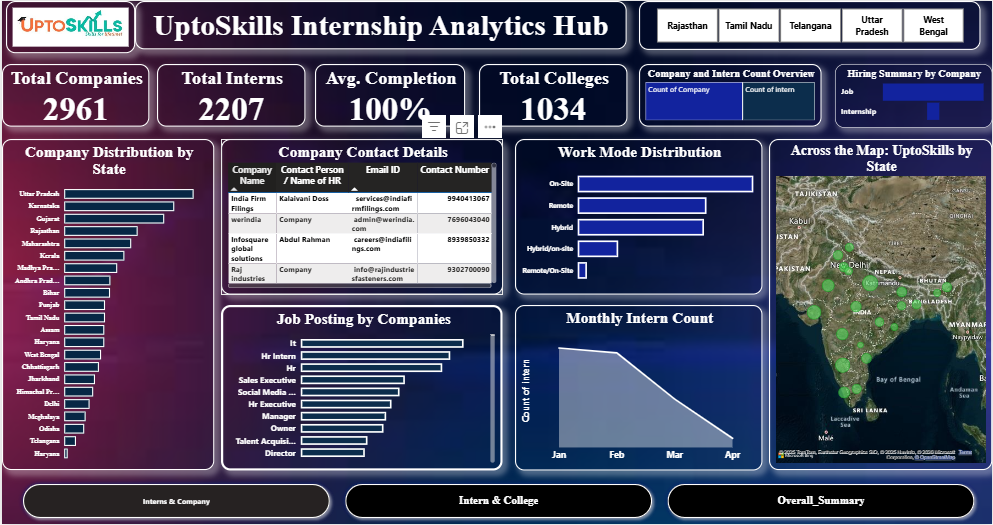

The dashboard page shown, as its layout file describes it:
{"tool":"powerbi","page":{"name":"Interns & Company","canvas":[1800,950],"ordinal":0},"visuals":[{"type":"lineChart","title":"Monthly Intern Count","fields":{"Y":["Final Intern Data.Count of intern"],"Category":["DateTable.Month"]},"box":[932.1,552.7,449.7,300.9],"z":0},{"type":"clusteredBarChart","title":"Job Posting by Companies","fields":{"Category":["Corporate Data.Designation"],"Y":["CountNonNull(Corporate Data.Company Name)"]},"box":[399,552.7,511.8,300.9],"z":1000},{"type":"barChart","title":"Company Distribution by State","fields":{"Category":["Corporate Data.State"],"Y":["Corporate Data.Count of Company"]},"box":[0,251.8,385.9,601.7],"z":2000},{"type":"slicer","fields":{"Values":["Corporate Data.State"]},"box":[1157.8,0,621.4,88.8],"z":3000},{"type":"treemap","title":"Company and Intern Count Overview","fields":{"Values":["Final Intern Data.Count of intern","Corporate Data.Count of Company"]},"box":[1157.7,114.5,331.9,114.5],"z":4000},{"type":"card","title":"Total Interns","fields":{"Values":["Final Intern Data.Count of intern"]},"box":[281.3,114.5,269.8,114.5],"z":5000},{"type":"card","title":"Total Colleges","fields":{"Values":["College_data.Count of Colleges"]},"box":[866.6,114.5,269.8,114.5],"z":6000},{"type":"card","title":"Total Companies","fields":{"Values":["Corporate Data.Count of Company"]},"box":[0,114.5,268.2,114.5],"z":7000},{"type":"card","title":"Avg. Completion","fields":{"Values":["College_data.Average Internship Duration"]},"box":[569,114.5,273.1,114.5],"z":8000},{"type":"textbox","box":[242,0,894.4,88.3],"z":9000},{"type":"pageNavigator","box":[29.4,869.9,1749.6,80.1],"z":10000},{"type":"tableEx","title":"Company Contact Details","fields":{"Values":["Corporate Data.Company Name","Corporate Data.Contact Person / Name of HR","Corporate Data.Email ID","Corporate Data.Contact Number"]},"box":[397.3,251.8,513.4,282.9],"z":11000},{"type":"map","title":"Across the Map: UptoSkills by State","fields":{"Category":["Corporate Data.State"],"Size":["CountNonNull(Corporate Data.Company Name)"]},"box":[1394.8,251.8,405.5,601.7],"z":12000},{"type":"funnel","title":"Hiring Summary by Company","fields":{"Category":["Corporate Data.Internship(Paid) / Job"],"Y":["Corporate Data.Count of Company"]},"box":[1514.2,114.5,286.2,116.1],"z":13000},{"type":"clusteredBarChart","title":"Work Mode Distribution","fields":{"Category":["Corporate Data.Work Mode"],"Y":["CountNonNull(Final Intern Data.Name)"]},"box":[932.1,251.8,449.7,282.9],"z":14000},{"type":"image","box":[6.5,0,235.5,94.8],"z":15000}]}

Visuals, with their boxes in screenshot pixels (x1, y1, x2, y2), scaled from the page's 1800x950 canvas onto the 993x525 screenshot:
"Monthly Intern Count" lineChart: [514, 305, 762, 472]
"Job Posting by Companies" clusteredBarChart: [220, 305, 502, 472]
"Company Distribution by State" barChart: [0, 139, 213, 472]
slicer - Corporate Data.State: [639, 0, 982, 49]
"Company and Intern Count Overview" treemap: [639, 63, 822, 127]
"Total Interns" card: [155, 63, 304, 127]
"Total Colleges" card: [478, 63, 627, 127]
"Total Companies" card: [0, 63, 148, 127]
"Avg. Completion" card: [314, 63, 465, 127]
textbox: [134, 0, 627, 49]
pageNavigator: [16, 481, 981, 524]
"Company Contact Details" tableEx: [219, 139, 502, 295]
"Across the Map: UptoSkills by State" map: [769, 139, 992, 472]
"Hiring Summary by Company" funnel: [835, 63, 992, 127]
"Work Mode Distribution" clusteredBarChart: [514, 139, 762, 295]
image: [4, 0, 134, 52]
